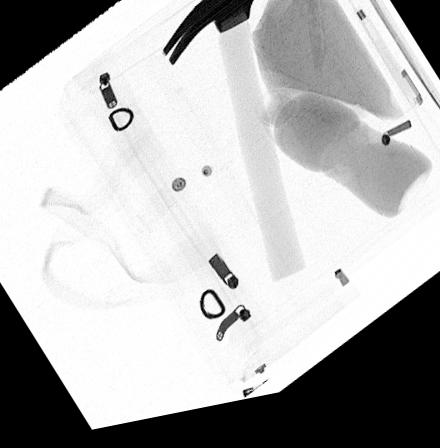Hammer: (161, 0, 307, 294)
